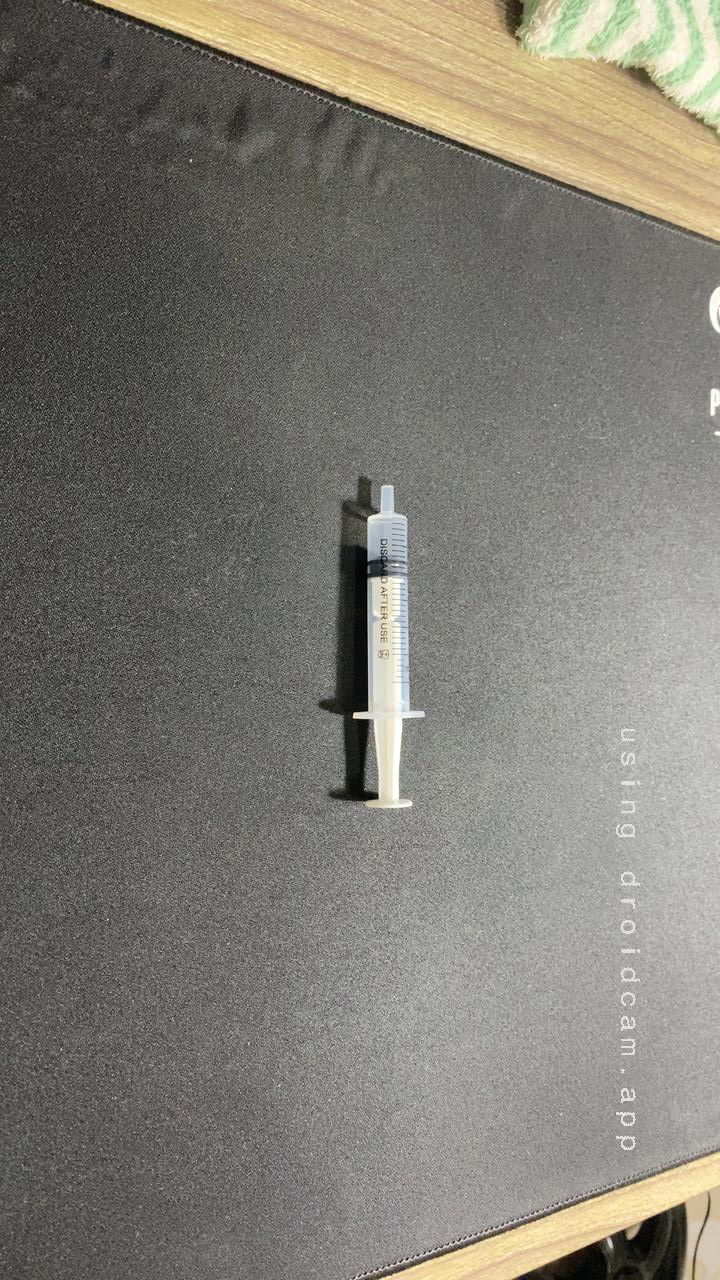syringe: (306, 462, 456, 819)
